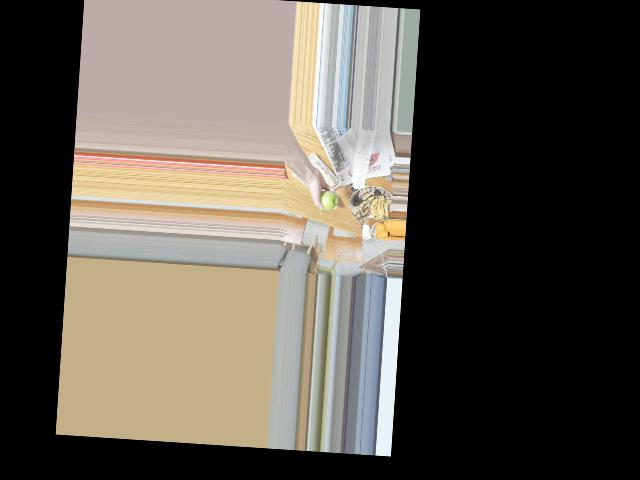apple: (314, 187, 338, 213)
